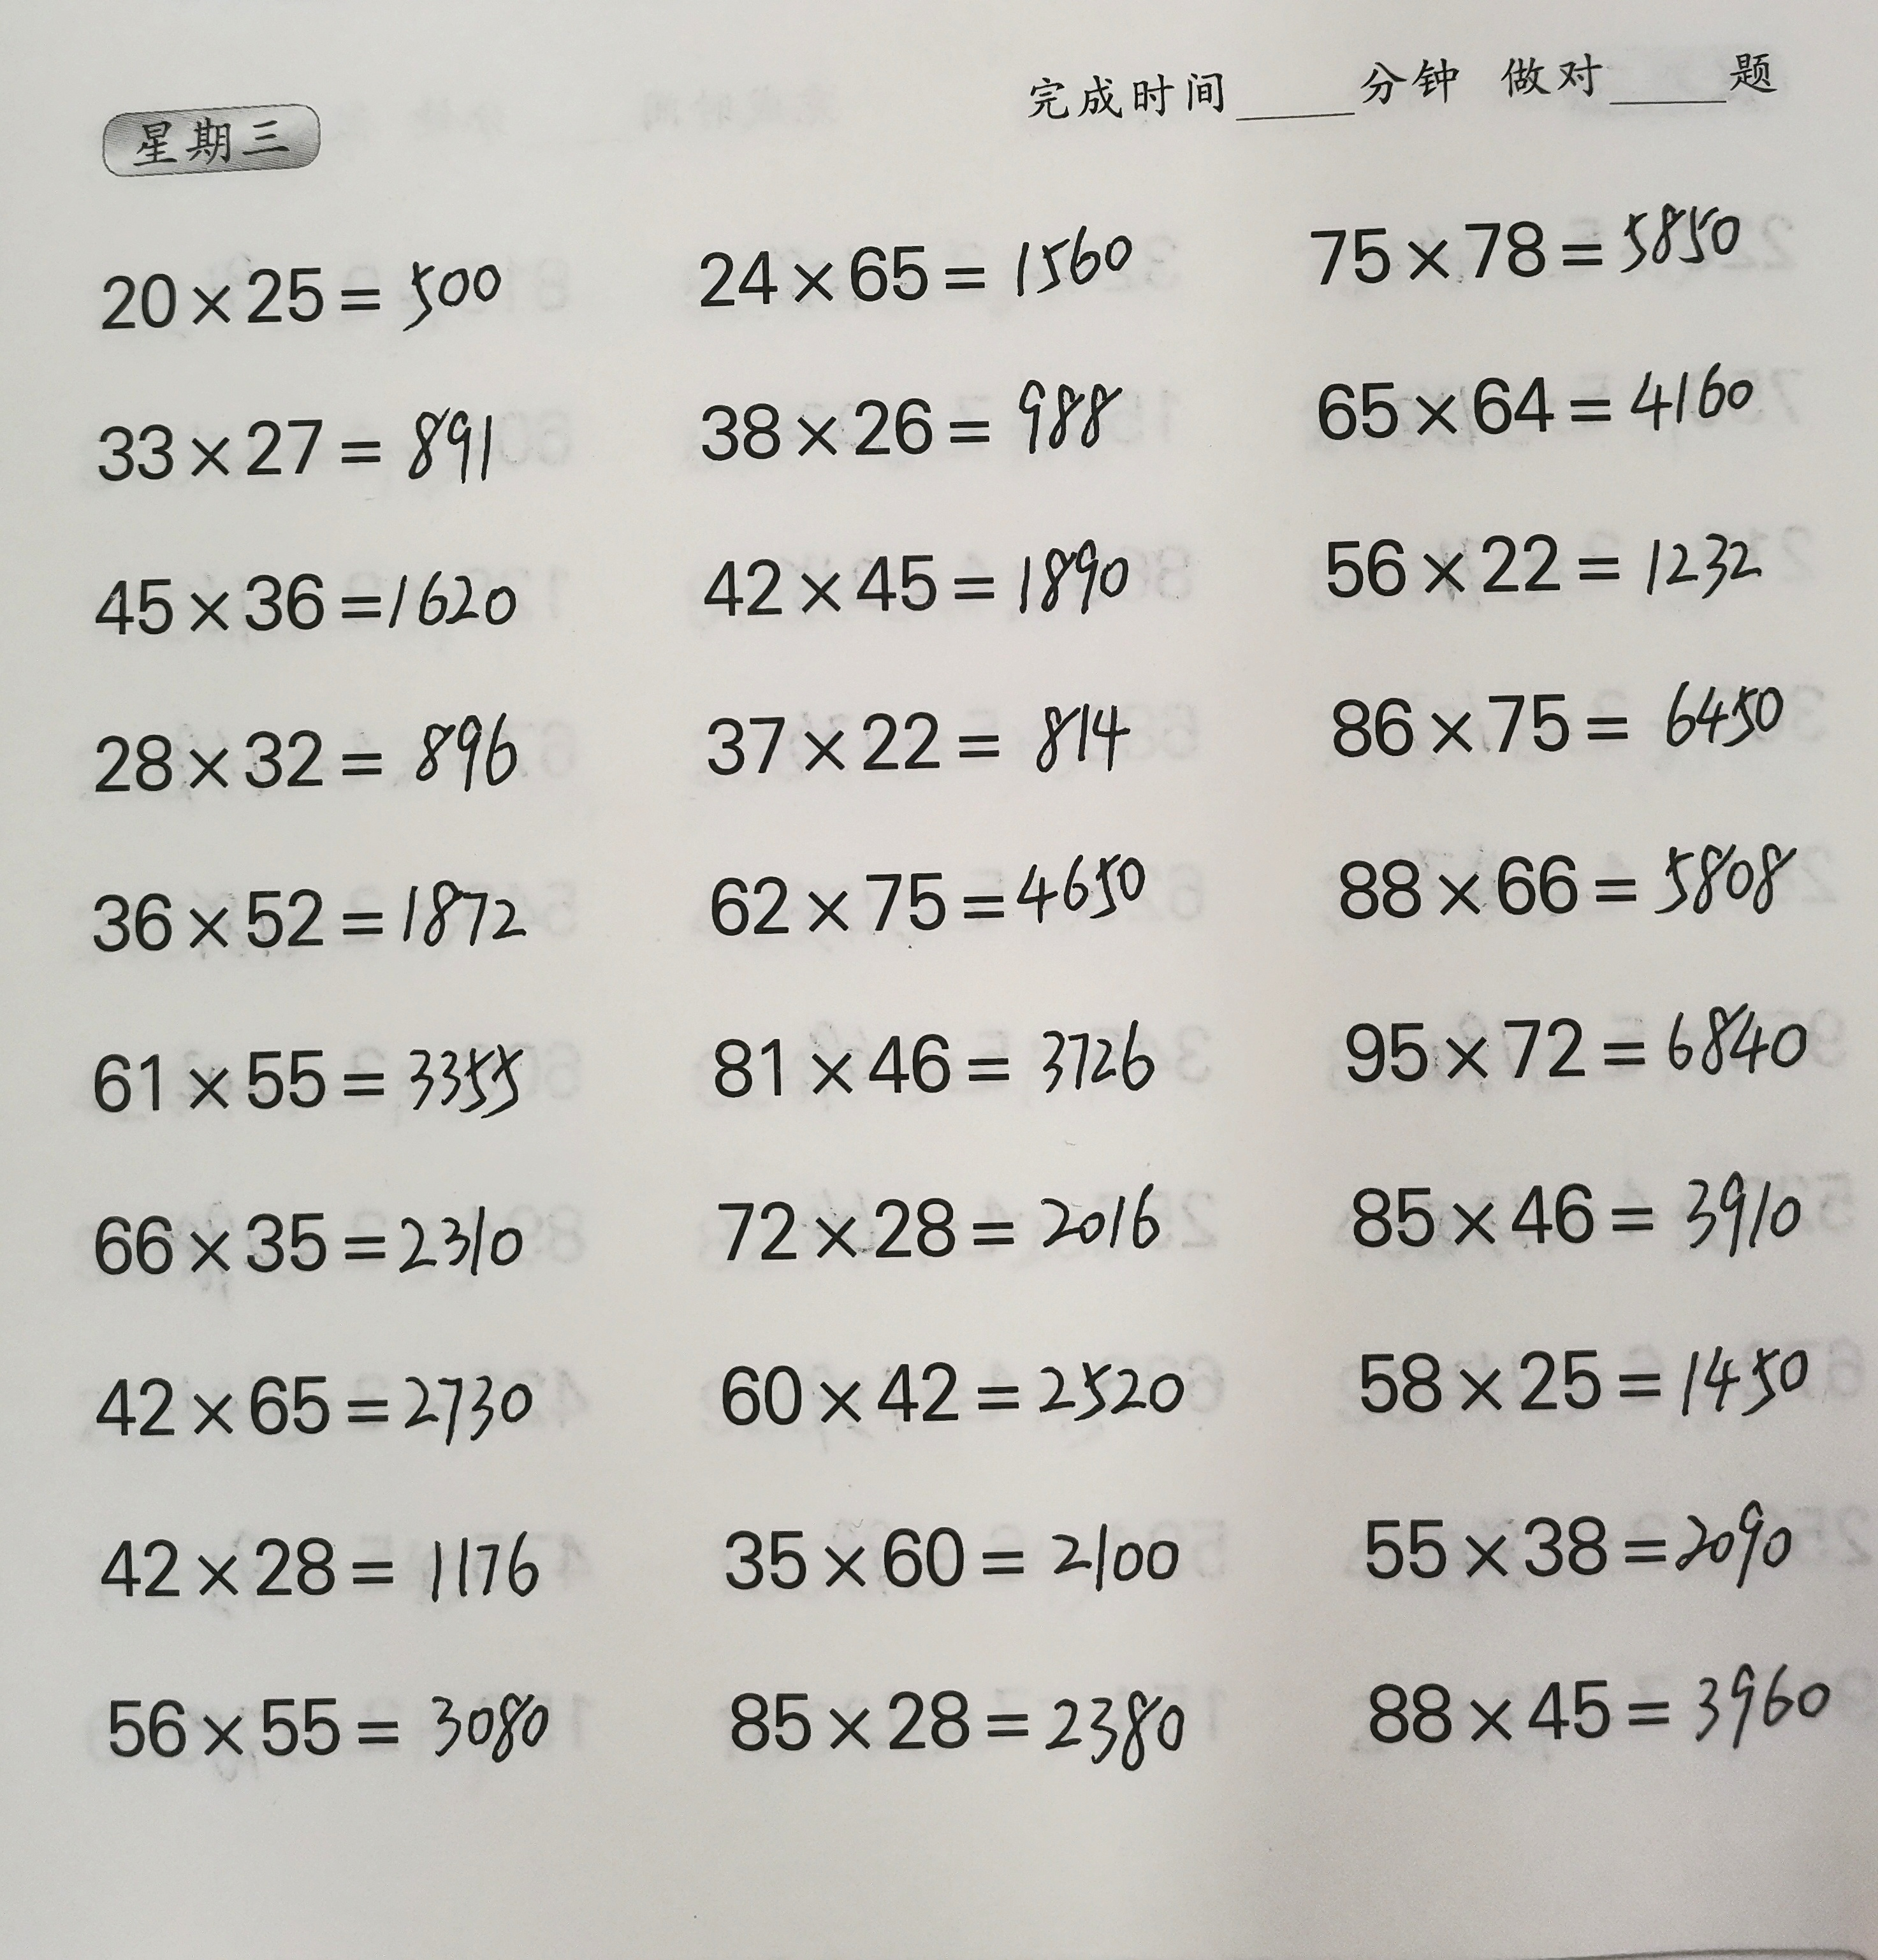equation: (1302, 819, 1815, 948), (698, 1489, 1197, 1622), (660, 674, 1167, 803), (1325, 1146, 1834, 1272), (1351, 1642, 1859, 1766), (1341, 1298, 1834, 1426), (705, 1659, 1222, 1778), (1302, 165, 1761, 298), (77, 1337, 560, 1463), (679, 994, 1206, 1109), (662, 198, 1152, 318), (1307, 982, 1834, 1094), (1304, 502, 1790, 623), (68, 686, 550, 807), (686, 838, 1183, 954), (1341, 1479, 1818, 1598), (1299, 651, 1797, 765), (89, 1670, 576, 1785), (1306, 343, 1789, 457), (81, 1013, 541, 1132), (70, 387, 541, 502), (695, 1330, 1206, 1435), (690, 513, 1148, 628), (716, 1167, 1192, 1278), (690, 357, 1129, 476), (89, 1517, 557, 1627), (68, 222, 522, 334), (68, 1181, 530, 1290), (74, 865, 555, 968), (60, 555, 539, 648)
